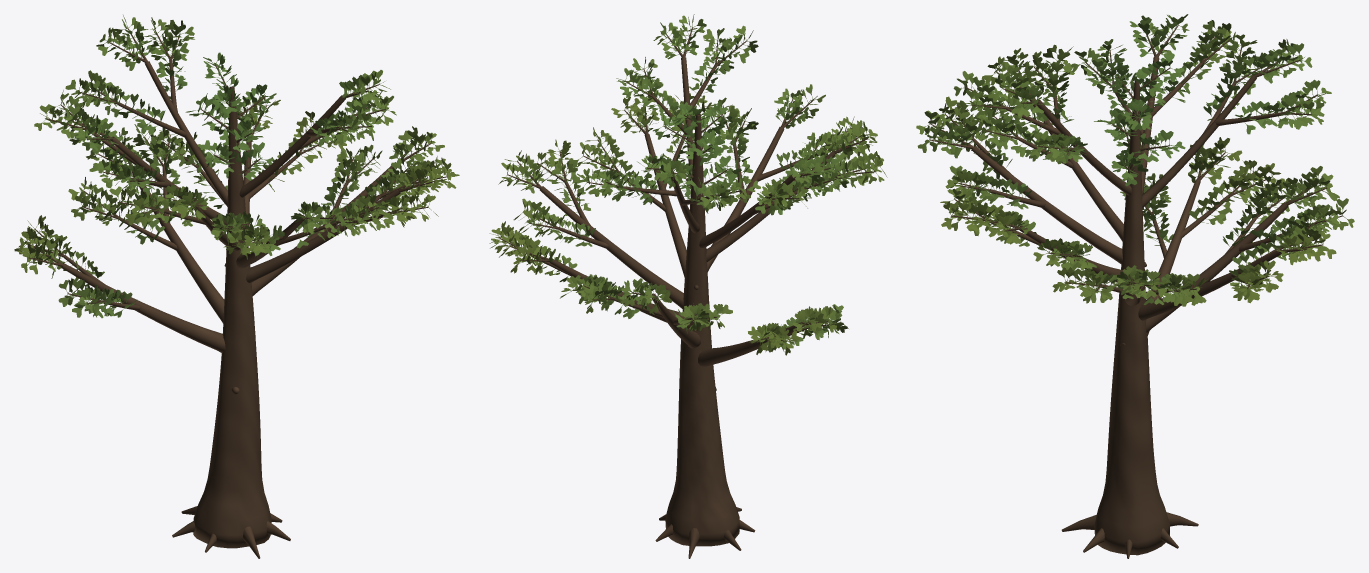
File: hero-gingko-original-v2.glb
3 views of the same model, side by side, from view 1: azimuth 30°, elevation 25°; view 2: azimuth 150°, elevation 25°; view 3: azimuth 270°, elevation 25° (orthographic). The views are drawn at different scales.
Parts seen in each view (by area): view 1: hero-gingko-supported-fan-leaves, hero-gingko-load-bearing-bark; view 2: hero-gingko-supported-fan-leaves, hero-gingko-load-bearing-bark; view 3: hero-gingko-supported-fan-leaves, hero-gingko-load-bearing-bark.
Boxes of the visible parts, bbox=[...] form: hero-gingko-supported-fan-leaves: bbox=[14, 15, 459, 318]; hero-gingko-load-bearing-bark: bbox=[27, 28, 446, 558]; hero-gingko-supported-fan-leaves: bbox=[489, 14, 887, 355]; hero-gingko-load-bearing-bark: bbox=[499, 27, 874, 558]; hero-gingko-supported-fan-leaves: bbox=[916, 14, 1354, 306]; hero-gingko-load-bearing-bark: bbox=[930, 25, 1342, 558].
Size of the model in its own units: 11 by 13.21 by 10.48.
